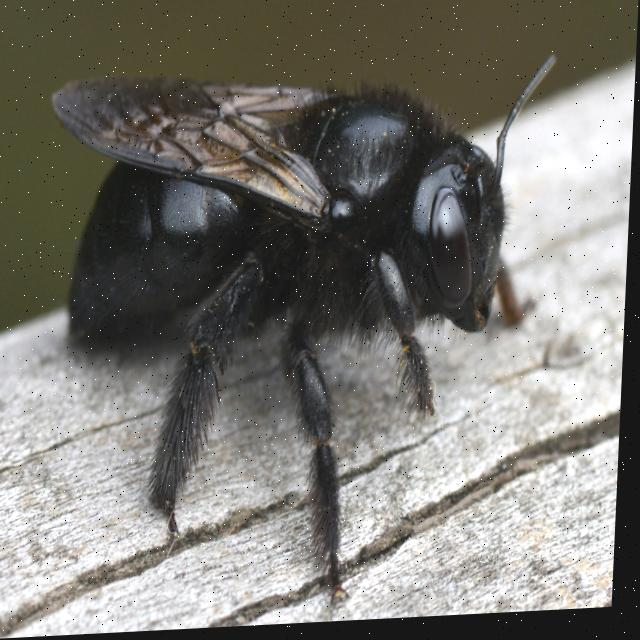Xylocopa: (36, 27, 570, 624)
